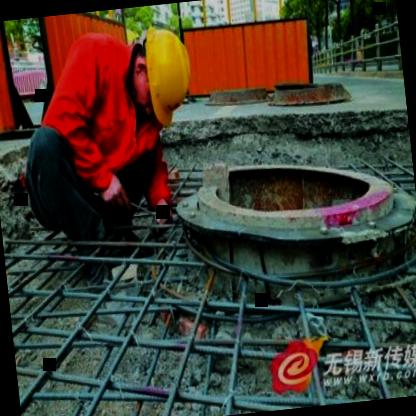helmet: (126, 22, 200, 127)
